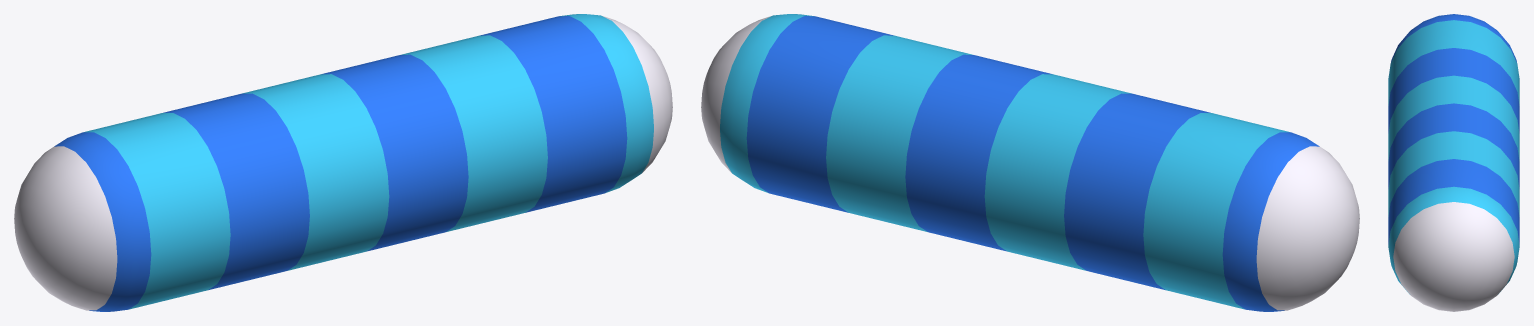
The model's file is bumper_cushion_4.glb.
3 views of the same model, side by side, from view 1: azimuth 30°, elevation 25°; view 2: azimuth 150°, elevation 25°; view 3: azimuth 270°, elevation 25° (orthographic). The views are drawn at different scales.
Visible parts, largest first — view 1: bumper_cushion_4; view 2: bumper_cushion_4; view 3: bumper_cushion_4.
Part boxes in pixels (<box>): bumper_cushion_4: <box>14,14,672,311</box>; bumper_cushion_4: <box>701,14,1359,311</box>; bumper_cushion_4: <box>1388,14,1519,311</box>.
Bounding box in the file's own units: 4 × 1 × 1.
Materials: 1 (1 with a texture image).
